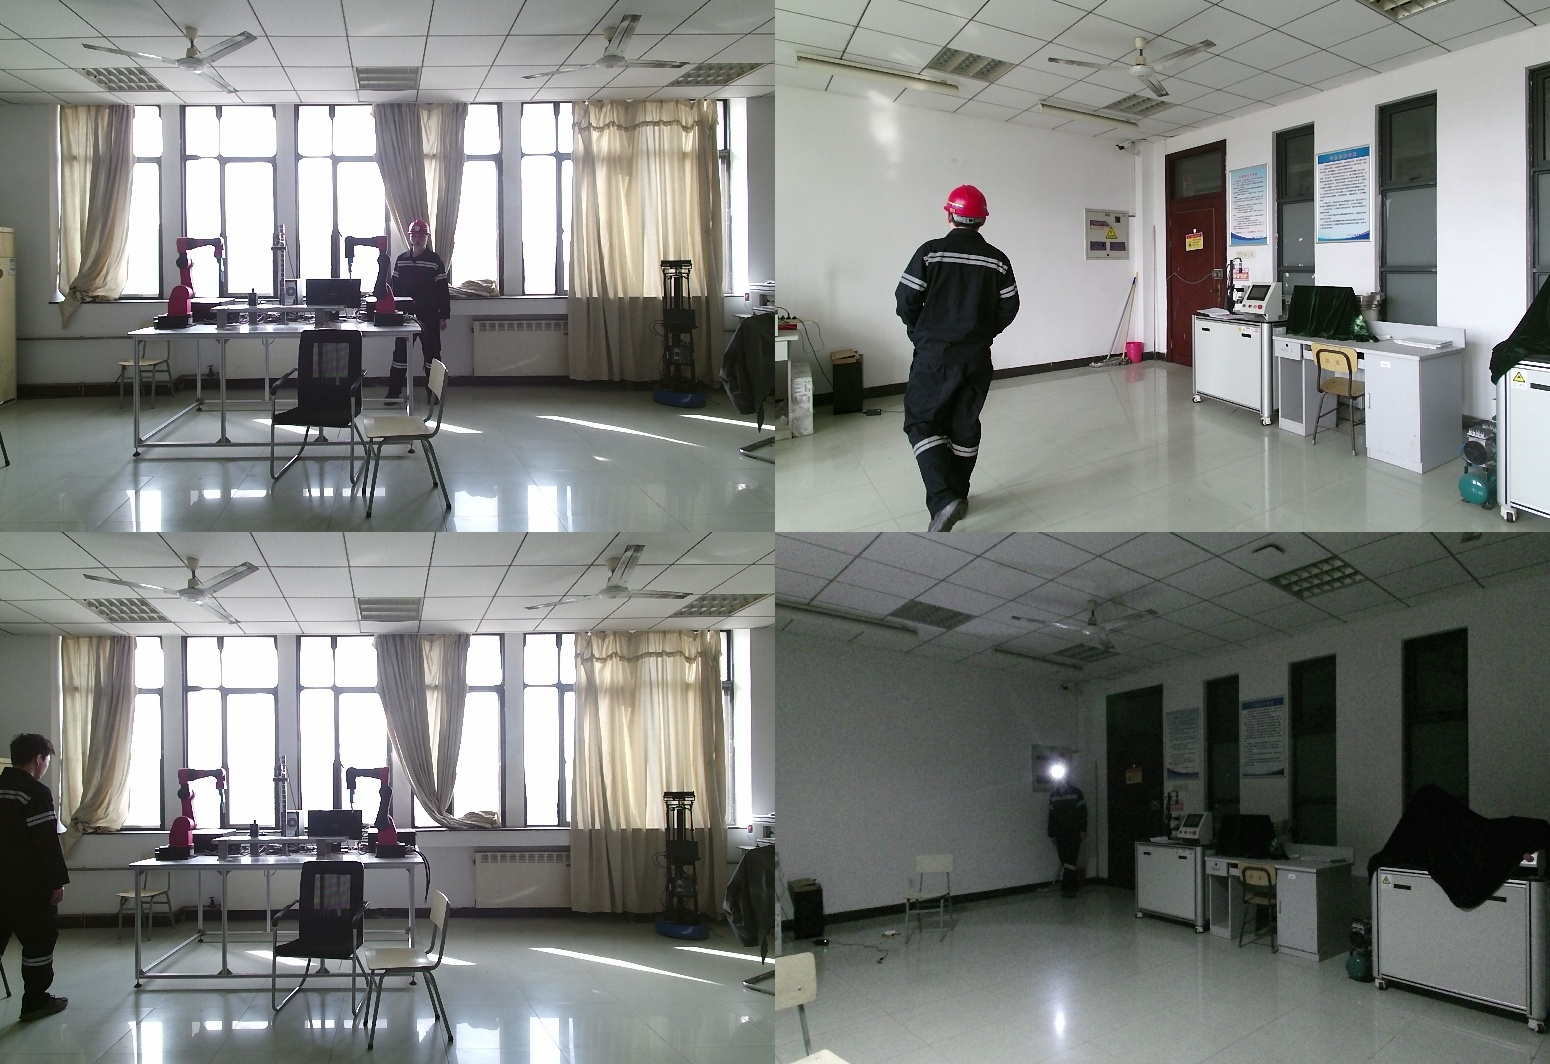person: (888, 182, 1024, 532), (2, 734, 75, 1030), (387, 220, 455, 420), (1040, 769, 1088, 899)
